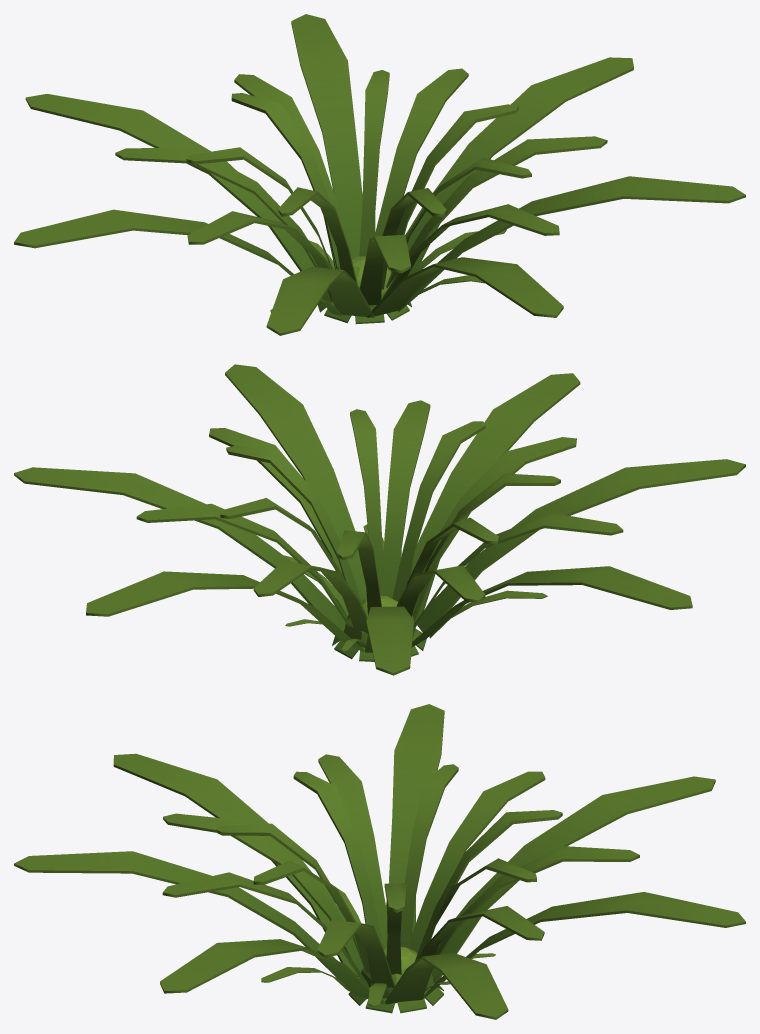
Rendered from arbusto2.fbx.
3 views of the same model, one above another, from view 1: azimuth 30°, elevation 25°; view 2: azimuth 150°, elevation 25°; view 3: azimuth 270°, elevation 25° (orthographic).
Parts seen in each view (by area): view 1: arbusto22; view 2: arbusto22; view 3: arbusto22.
Part boxes in pixels (left/top/right/bottom): arbusto22: left=14, top=14, right=745, bottom=335; arbusto22: left=14, top=364, right=745, bottom=675; arbusto22: left=14, top=704, right=745, bottom=1019.
Bounding box in the file's own units: 705 × 169 × 696.
